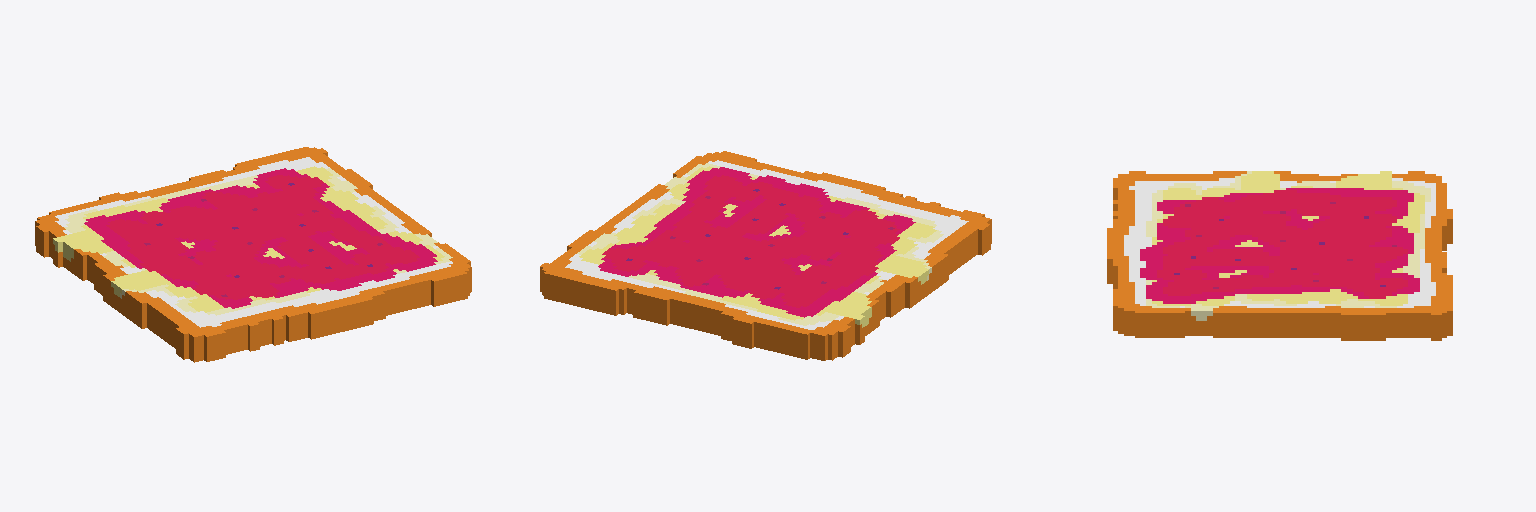
3 views of the same model, side by side, from view 1: azimuth 30°, elevation 25°; view 2: azimuth 150°, elevation 25°; view 3: azimuth 270°, elevation 25° (orthographic).
Bounding box in the file's own units: 61 × 5 × 62.
Materials: 1 (1 with a texture image).